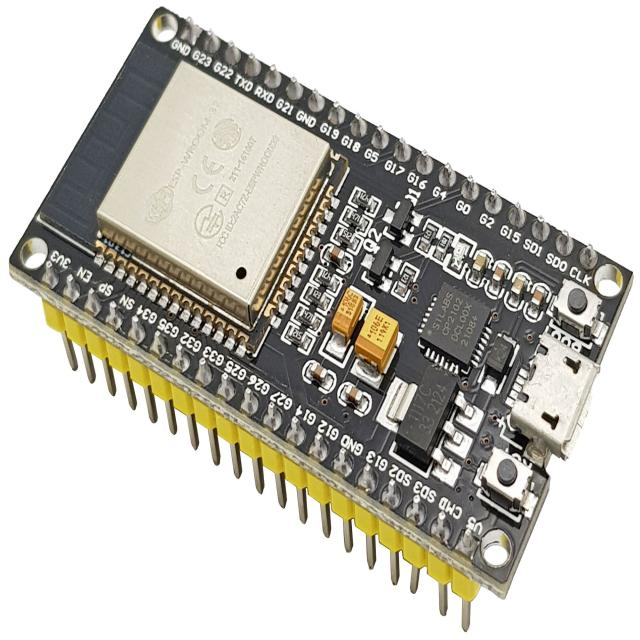ESP32: (10, 9, 635, 632)
